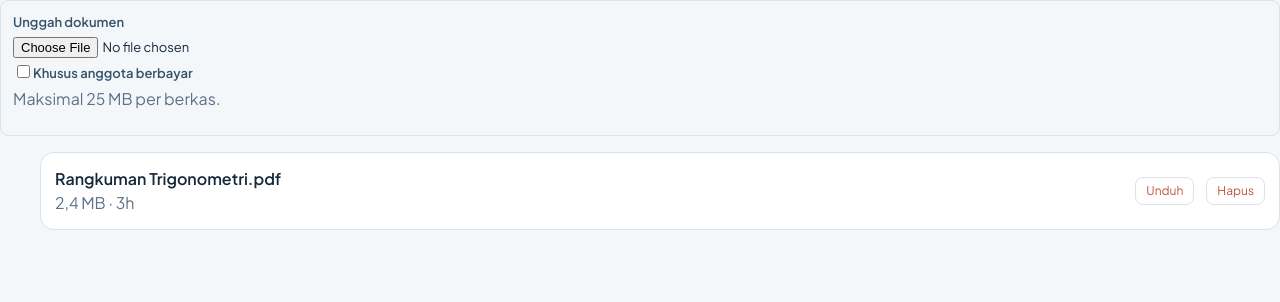
DokumenTab › a failed delete leaves the row on screen and says why
Expected: the text "Rangkuman Trigonometri.pdf" is shown, [55,168,281,189]
Click the button "Hapus".
click(1236, 191)  # box [1206,177,1265,205]
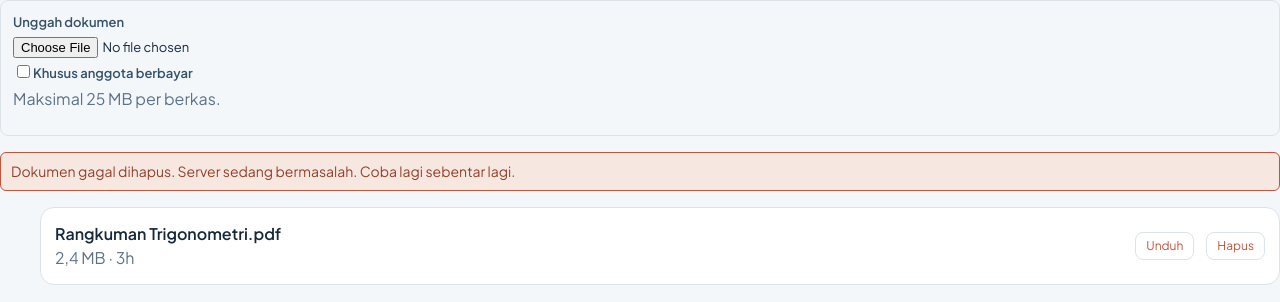
Expected: the text "Rangkuman Trigonometri.pdf" is shown once, [55,223,281,244]
Now the message "Dokumen gagal dihapus. Server sedang bermasalah. Coba lagi sebentar lagi." is shown, box [0,152,1279,191]
